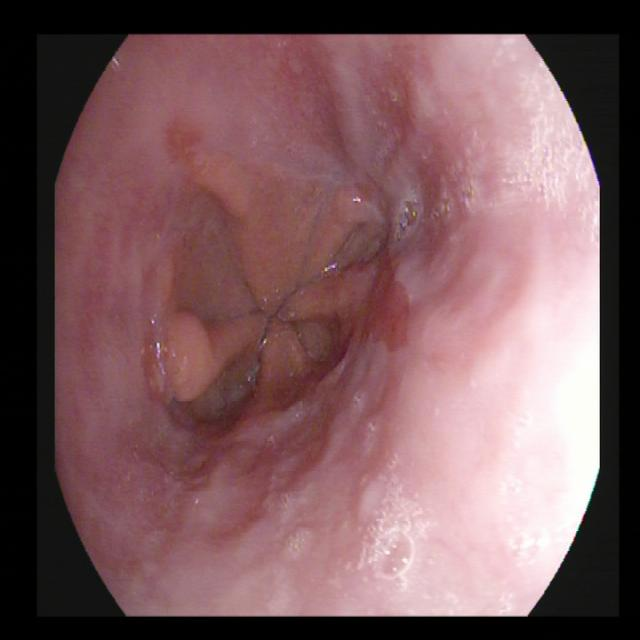esophagitis: (135, 118, 437, 533)
